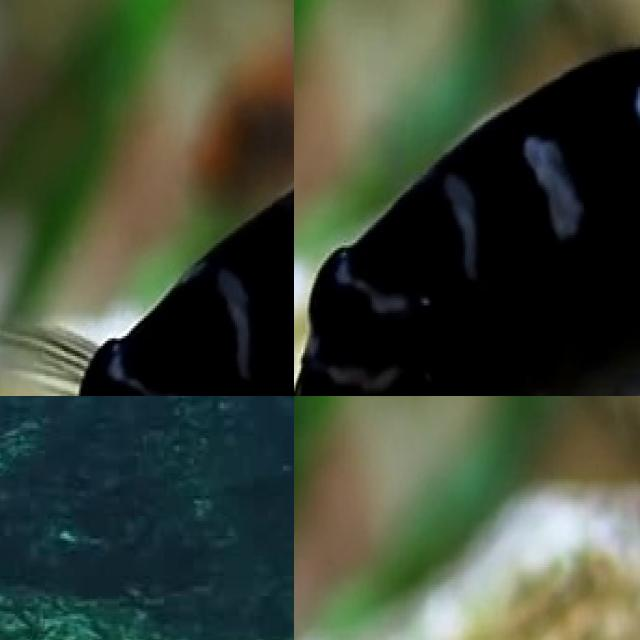fish: (294, 0, 640, 396), (0, 0, 294, 396)
